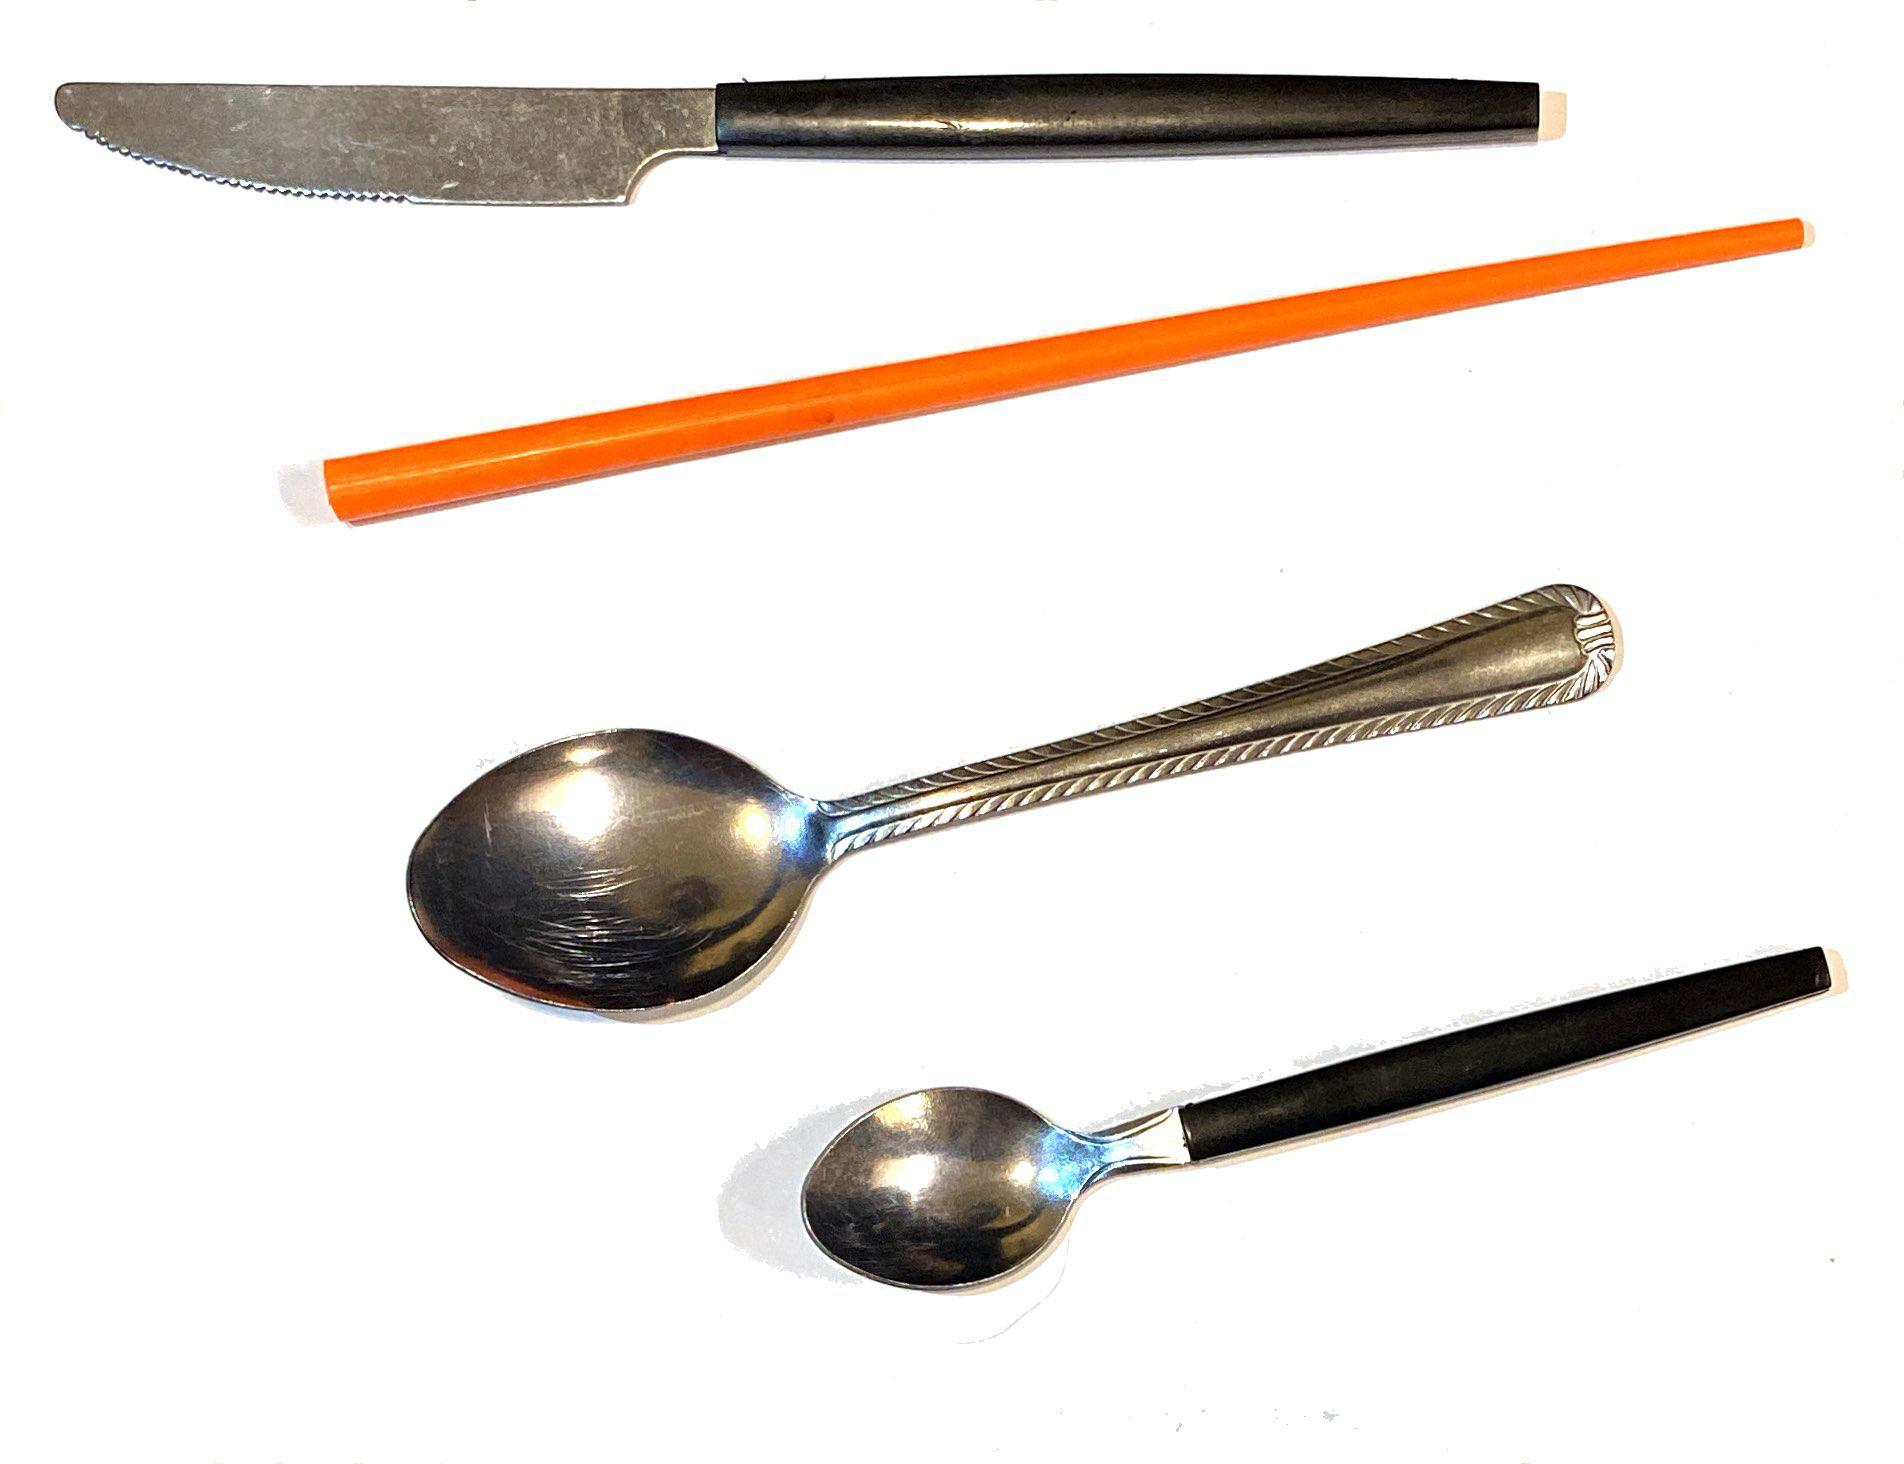Chopstick: (321, 201, 1836, 571)
Knife: (35, 37, 1593, 214)
Spoon: (384, 554, 1653, 1064), (777, 893, 1873, 1332)
